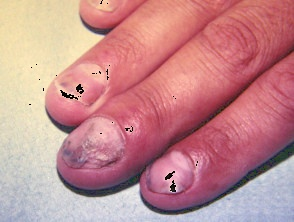Nail_psoriasis: (50, 104, 144, 190), (44, 52, 125, 125), (142, 146, 213, 200), (79, 0, 131, 17)
